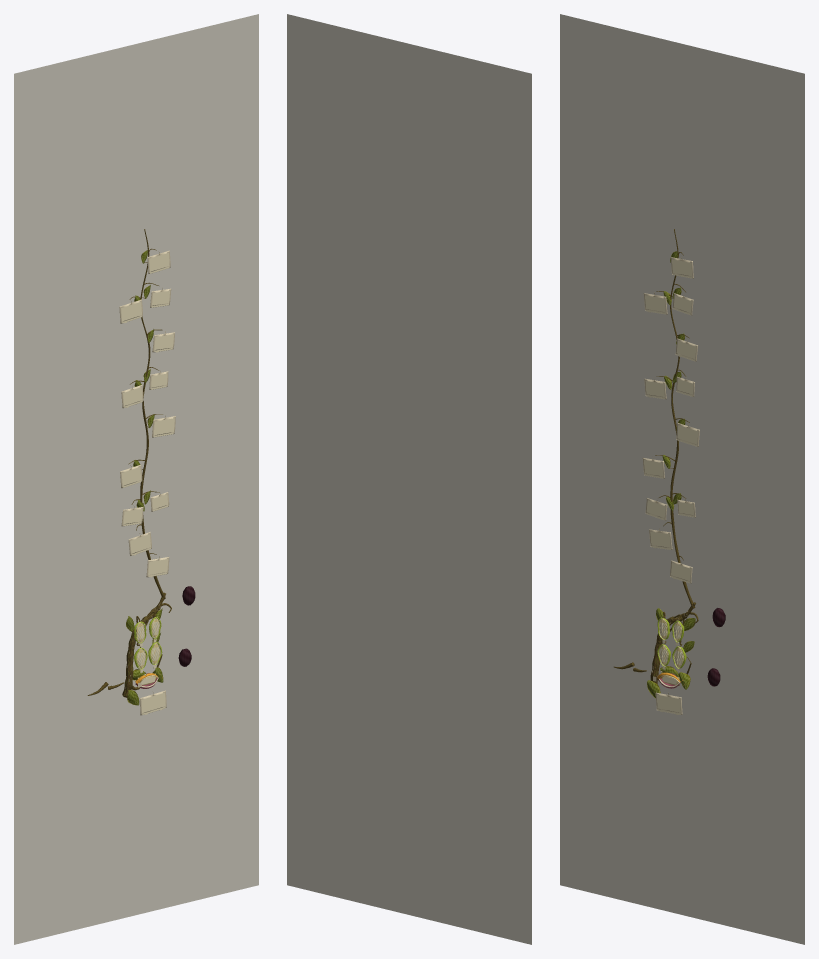
Rendered from scene-mobile.glb.
The picture shows the model from 3 angles, left to right: view 1: azimuth 30°, elevation 25°; view 2: azimuth 150°, elevation 25°; view 3: azimuth 330°, elevation 25°; orthographic projection.
Visible parts, largest first — view 1: specimen_sweep, climbing_specimen_branch, gnarled_diagonal_branch; view 2: specimen_sweep; view 3: specimen_sweep, climbing_specimen_branch.
Boxes of the visible parts, box(x1,y1,x2,y2) form: specimen_sweep: box(14, 14, 258, 944); climbing_specimen_branch: box(140, 229, 165, 599); gnarled_diagonal_branch: box(122, 592, 165, 697); specimen_sweep: box(287, 14, 531, 944); specimen_sweep: box(560, 14, 804, 944); climbing_specimen_branch: box(670, 229, 695, 608).
Bounding box in the file's own units: 50 × 170 × 5.54.
Materials: 17 (5 with a texture image).
